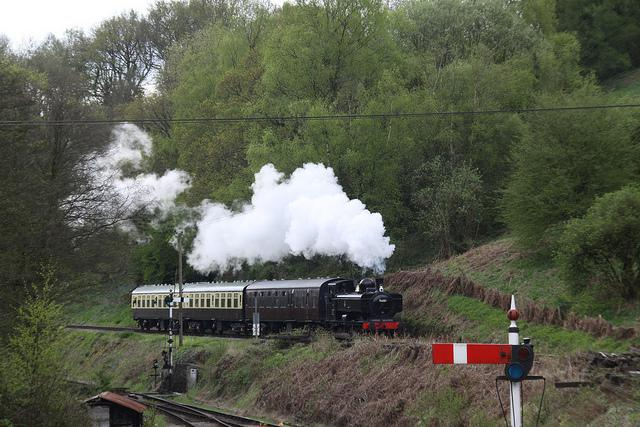Train: (132, 276, 407, 339)
